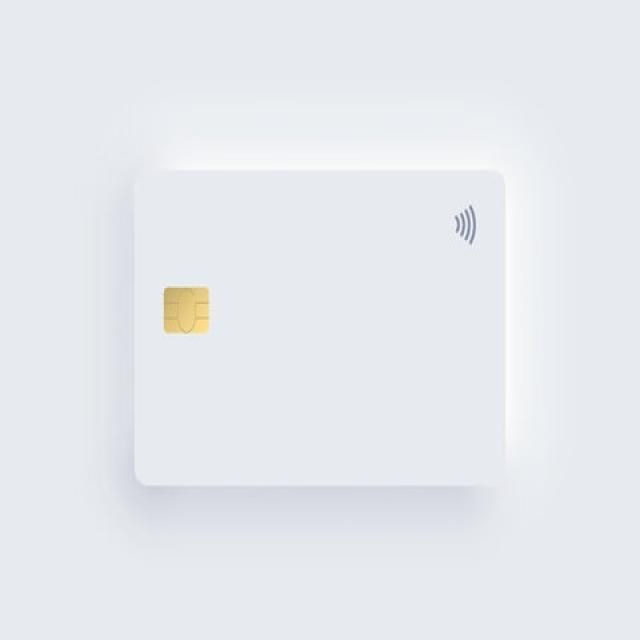payment_card: (131, 165, 508, 488)
